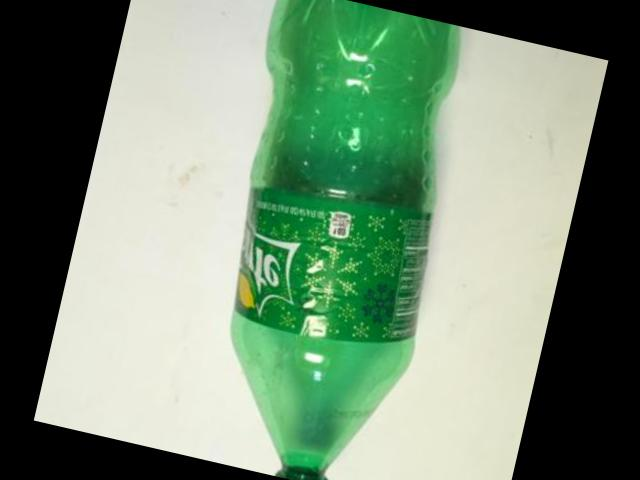plastic: (232, 0, 458, 480)
